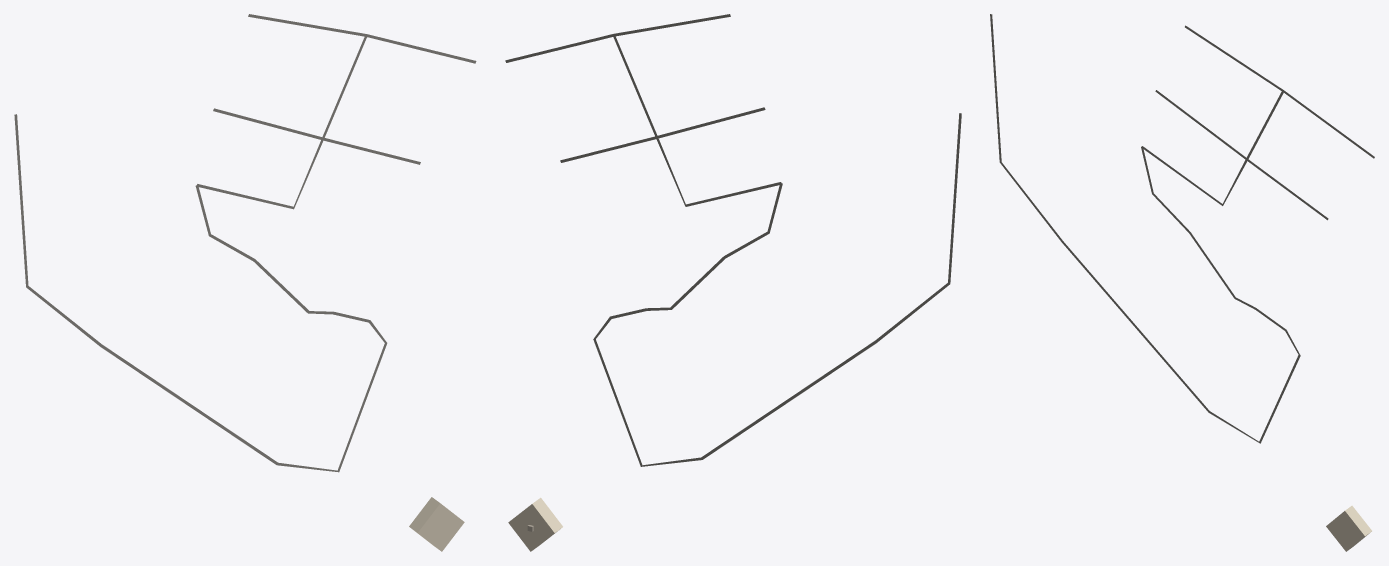
File: historic-palestine-13_23_3550_3175.glb
3 views of the same model, side by side, from view 1: azimuth 30°, elevation 25°; view 2: azimuth 150°, elevation 25°; view 3: azimuth 330°, elevation 25° (orthographic). The views are drawn at different scales.
Visible parts, largest first — view 1: Road, Building_, Road .001, Road .003, Road .002; view 2: Road, Building_, Road .001, Road .003, Road .002; view 3: Road, Building_, Road .001, Road .003, Road .002.
Boxes of the visible parts, x1,y1,x2,y2 form: Road: [14, 114, 387, 472]; Building_: [409, 497, 464, 551]; Road .001: [196, 35, 366, 209]; Road .003: [248, 14, 476, 63]; Road .002: [213, 108, 420, 164]; Road: [593, 113, 961, 466]; Building_: [508, 497, 562, 551]; Road .001: [613, 35, 781, 206]; Road .003: [505, 14, 730, 62]; Road .002: [560, 107, 765, 162]; Road: [990, 14, 1300, 443]; Building_: [1326, 505, 1371, 551]; Road .001: [1142, 90, 1283, 205]; Road .003: [1185, 25, 1374, 158]; Road .002: [1155, 90, 1328, 220].
Bounding box in the file's own units: 229 × 277 × 8.7.
